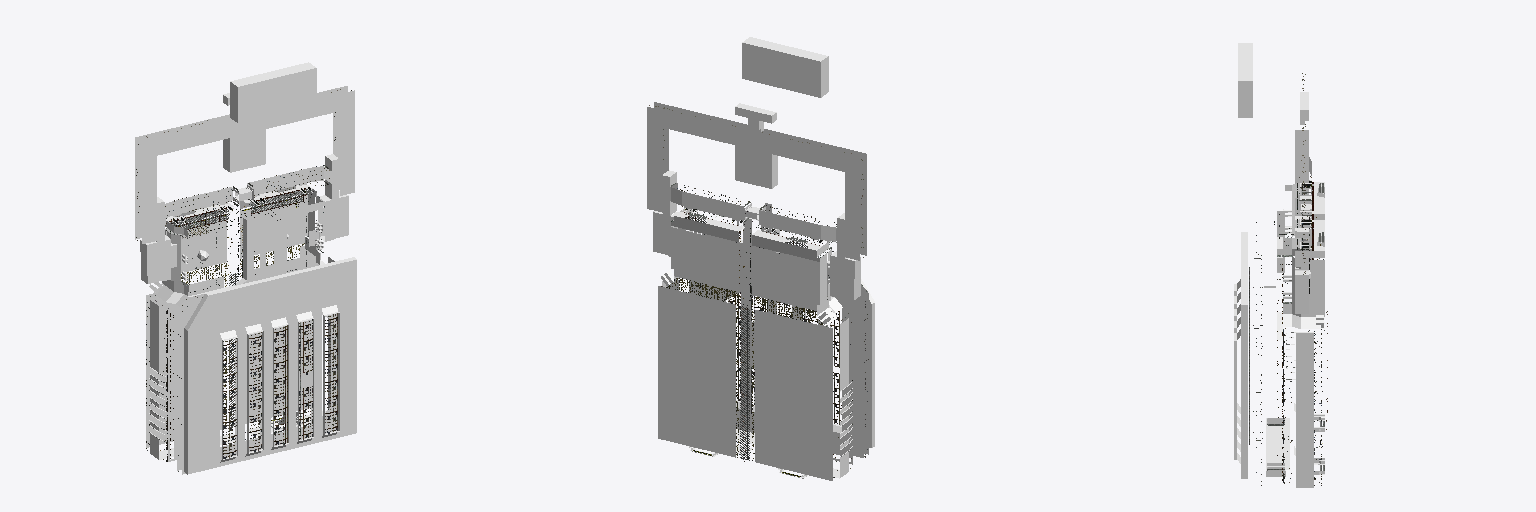
3 renders of one model, left to right at view 1: azimuth 30°, elevation 25°; view 2: azimuth 150°, elevation 25°; view 3: azimuth 270°, elevation 25°, orthographic.
Parts seen in each view (by area): view 1: foundry; view 2: foundry; view 3: foundry.
Part boxes in pixels (left/top/right/bottom): foundry: left=135, top=62, right=356, bottom=474; foundry: left=647, top=37, right=874, bottom=480; foundry: left=1234, top=43, right=1327, bottom=487.
Size of the model in its own units: 2869 by 4994 by 1144.
Materials: 54 (36 with a texture image).